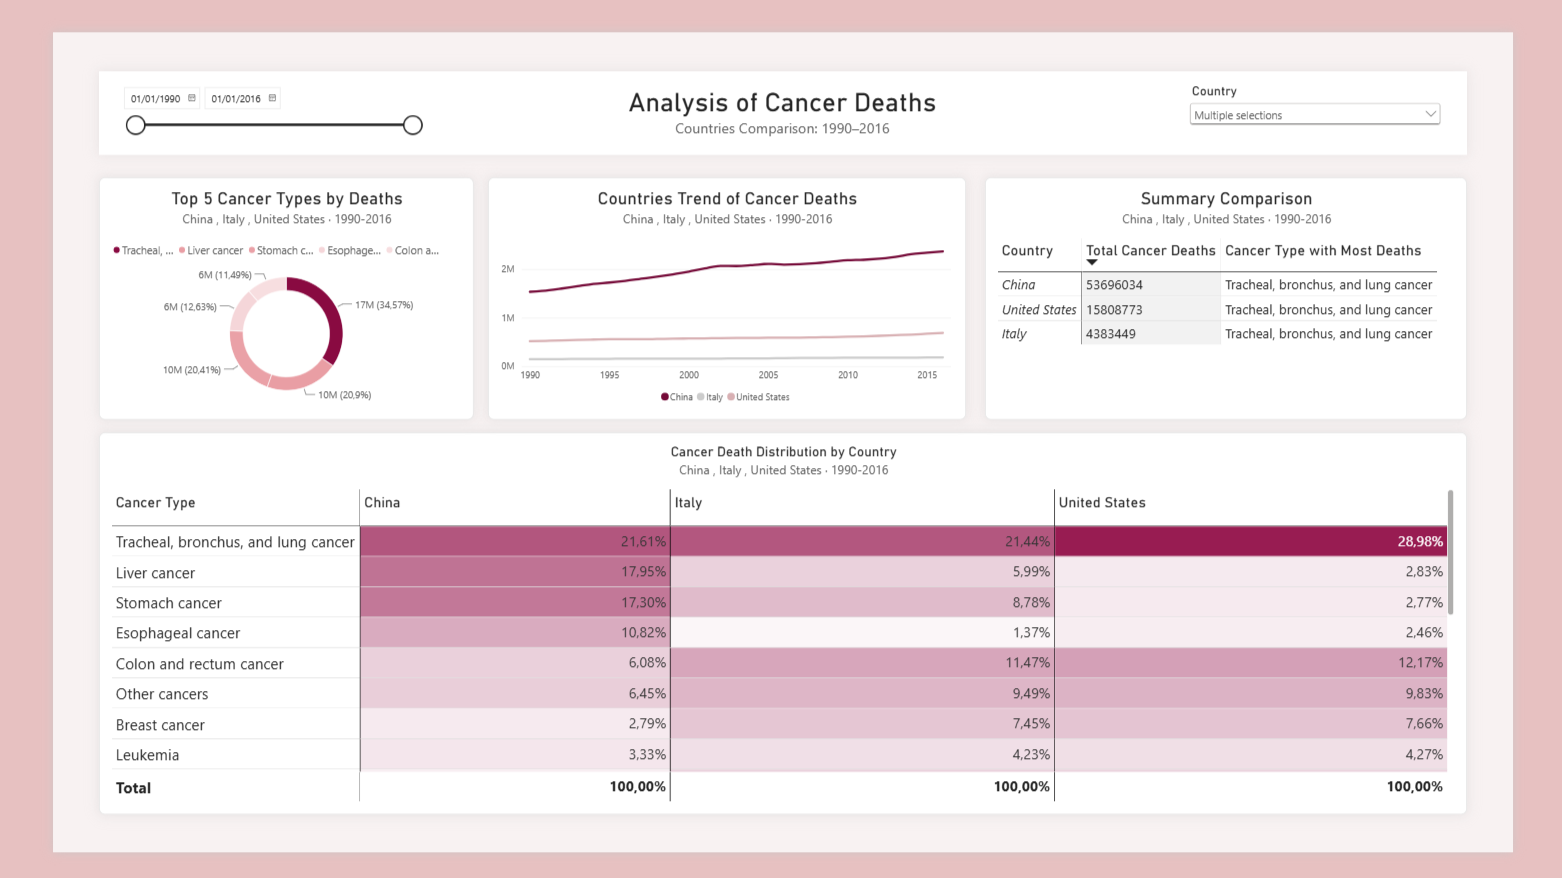

The page's visual inventory and layout, read from the dashboard file:
{"tool":"powerbi","page":{"name":"Country Comparison","canvas":[1920,1080],"ordinal":2},"visuals":[{"type":"textbox","title":"back","box":[60,51.7,1800,110],"z":1000},{"type":"textbox","title":"Analysis of Cancer Deaths","box":[732.9,72.9,453.8,68.8],"z":2000},{"type":"pivotTable","title":"Cancer Death Distribution by Country","fields":{"Rows":["Type_of_cancer_ID.Type_cancer"],"Columns":["Countries_ID.Country"],"Values":["00_Measures_Table.%Cancer Death"]},"box":[60,525.7,1800,502.9],"z":3000},{"type":"slicer","fields":{"Values":["Countries_ID.Country"]},"box":[1491.4,67.1,340,78.6],"z":4000},{"type":"lineChart","title":"Countries Trend of Cancer Deaths","fields":{"Category":["Years_ID.Year.Variation.Date Hierarchy.Year","Years_ID.Year.Variation.Date Hierarchy.Quarter","Years_ID.Year.Variation.Date Hierarchy.Month","Years_ID.Year.Variation.Date Hierarchy.Day"],"Y":["Sum(Countries_cancer_deaths.Total)"],"Series":["Countries_ID.Country"]},"box":[572.9,191.4,628.6,318.6],"z":5000},{"type":"pivotTable","title":"Summary Comparison","fields":{"Rows":["Countries_ID.Country"],"Values":["00_Measures_Table.Total Deaths","00_Measures_Table.Cancer Type with Most Deaths Country"]},"box":[1225.7,191.4,634.3,318.6],"z":6000},{"type":"slicer","fields":{"Values":["Years_ID.Year"]},"box":[85.7,67.1,404.3,70],"z":7000},{"type":"donutChart","title":"Top 5 Cancer Types by Deaths","fields":{"Y":["Sum(Countries_cancer_deaths.Total)"],"Category":["Type_of_cancer_ID.Type_cancer"]},"box":[60,191.4,492.9,318.6],"z":8000}]}

Visuals, with their boxes in screenshot pixels (x1, y1, x2, y2), scaled from the page's 1920x1080 canvas onto the 1562x878 screenshot:
"back" textbox: left=49, top=42, right=1513, bottom=131
"Analysis of Cancer Deaths" textbox: left=596, top=59, right=965, bottom=115
"Cancer Death Distribution by Country" pivotTable: left=49, top=427, right=1513, bottom=836
slicer - Countries_ID.Country: left=1213, top=55, right=1490, bottom=118
"Countries Trend of Cancer Deaths" lineChart: left=466, top=156, right=977, bottom=415
"Summary Comparison" pivotTable: left=997, top=156, right=1513, bottom=415
slicer - Years_ID.Year: left=70, top=55, right=399, bottom=111
"Top 5 Cancer Types by Deaths" donutChart: left=49, top=156, right=450, bottom=415
